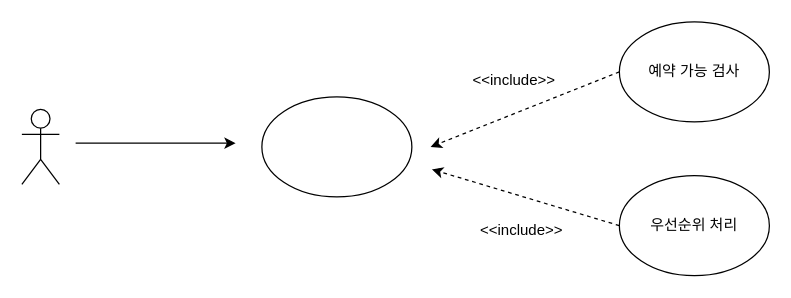
Image size: 791x298. Some labels were removed from this diagram. The box of each missing label's shape, as (x1, y1, x2, y2) in pixels:
예약 신청: (261, 96, 412, 197)
회원: (21, 108, 59, 184)
